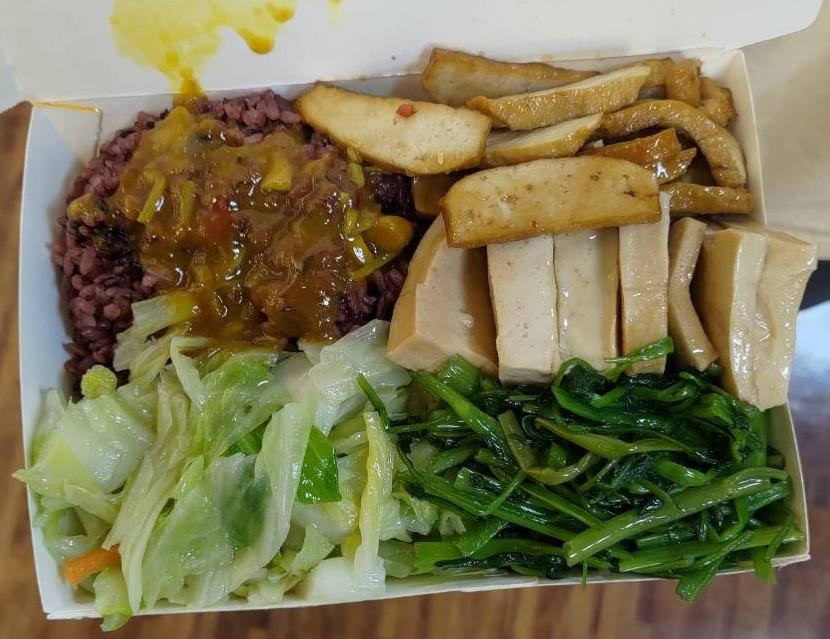big grilled chicken leg: (0, 73, 830, 628)
braised fish: (55, 85, 407, 351)
braised fish fillet: (32, 335, 405, 605), (305, 42, 746, 245), (396, 367, 798, 584), (384, 200, 807, 403)
